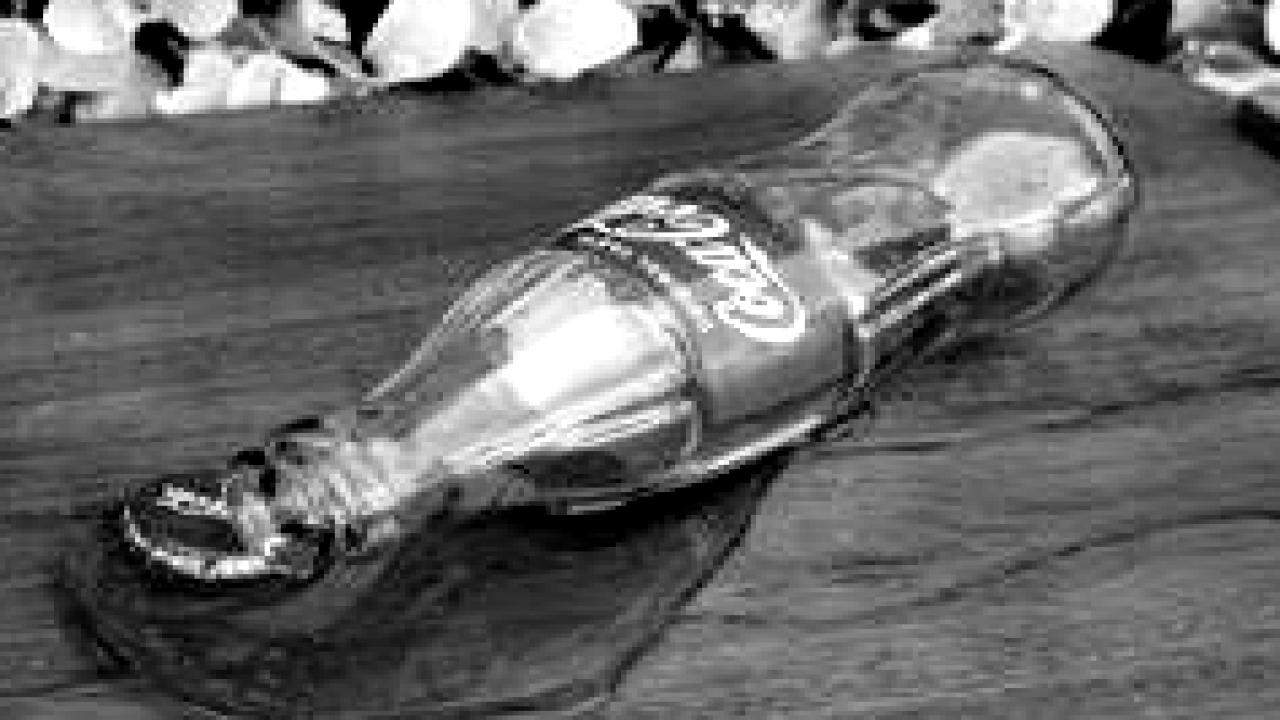drinks Stains: (54, 474, 778, 720)
